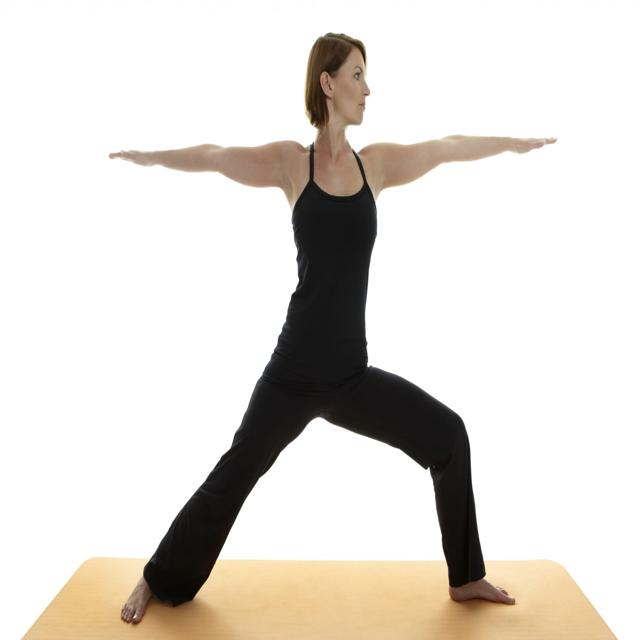Warrior_II: (109, 34, 560, 626)
